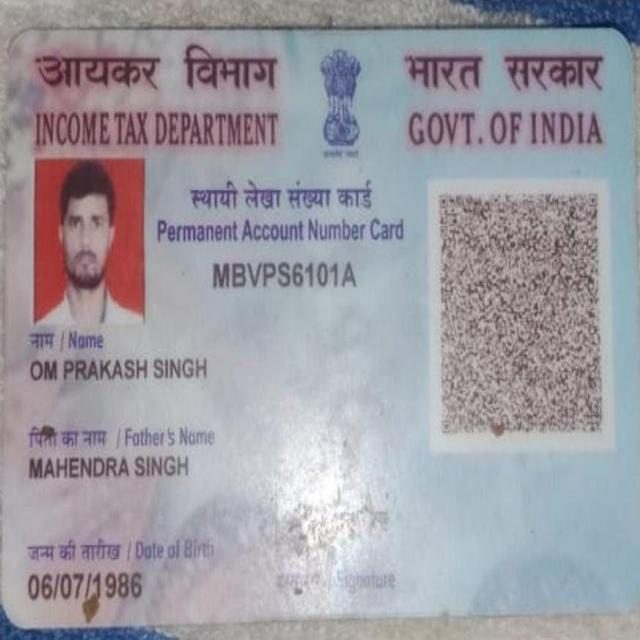pan_card: (10, 26, 640, 640)
